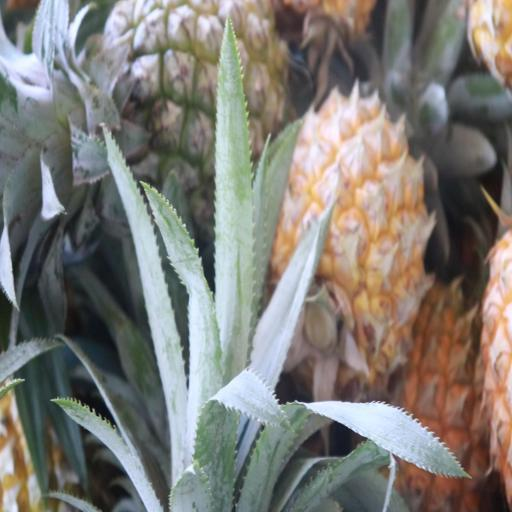Pineapple - v8 v1: (281, 92, 437, 366)
